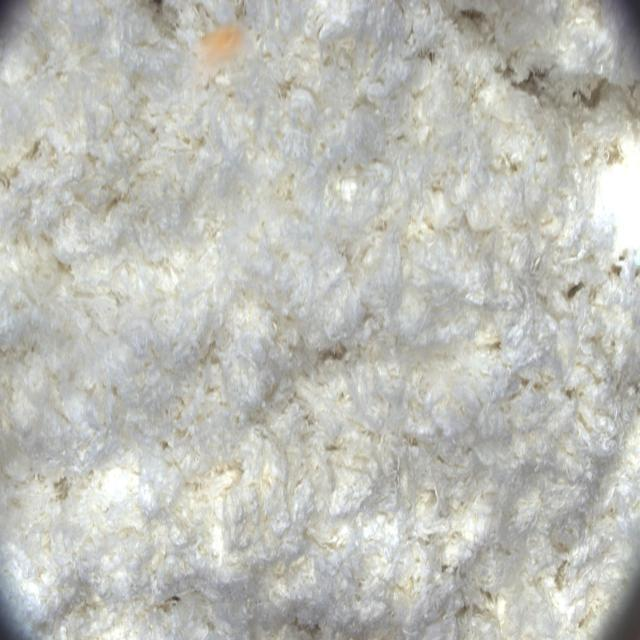dust: (186, 18, 258, 104)
